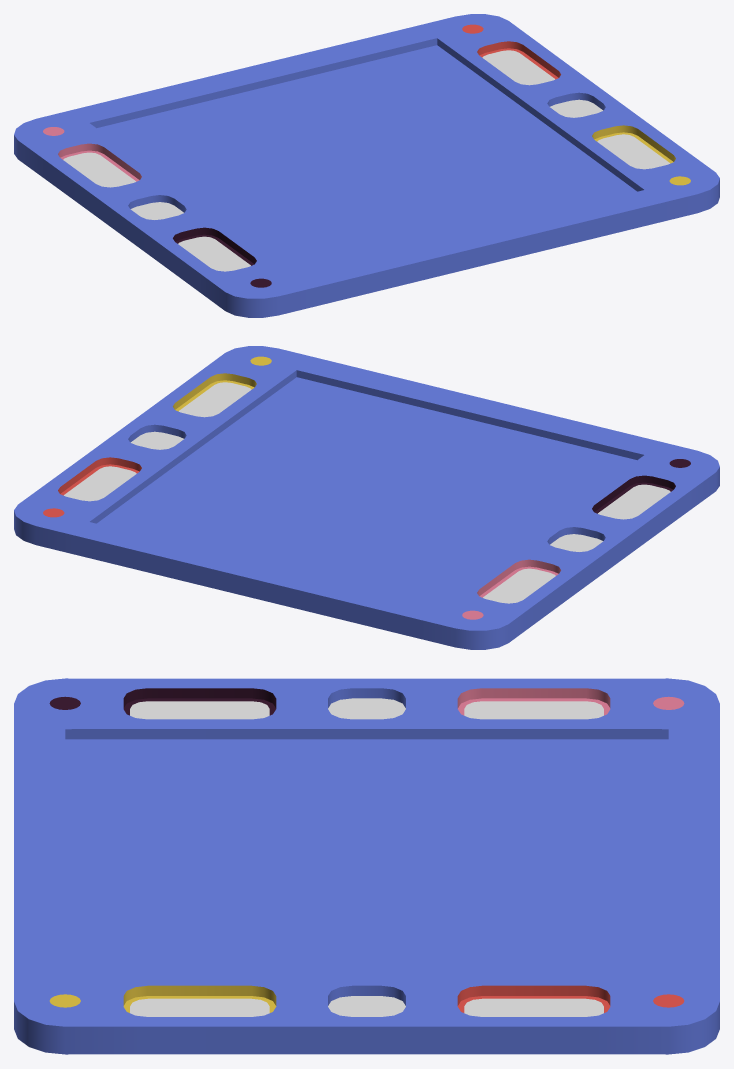
Rendered from Game_Board_ready.fbx.
The picture shows the model from 3 angles, top to bottom: view 1: azimuth 30°, elevation 25°; view 2: azimuth 150°, elevation 25°; view 3: azimuth 270°, elevation 25°; orthographic projection. The views are drawn at different scales.
Visible parts, largest first — view 1: gameboard_cell; view 2: gameboard_cell; view 3: gameboard_cell.
Part boxes in pixels (x1,y1,x2,y2): gameboard_cell: (14, 14, 719, 317); gameboard_cell: (14, 346, 719, 649); gameboard_cell: (14, 678, 719, 1054).
Size of the model in its own units: 260 by 9.82 by 223.
